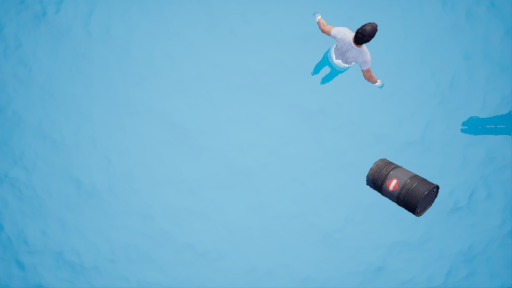person: (310, 7, 394, 90)
